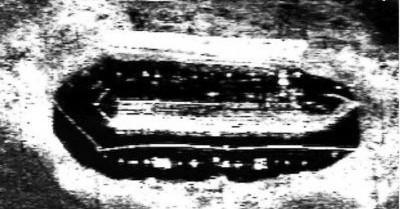ship: (45, 43, 367, 152)
